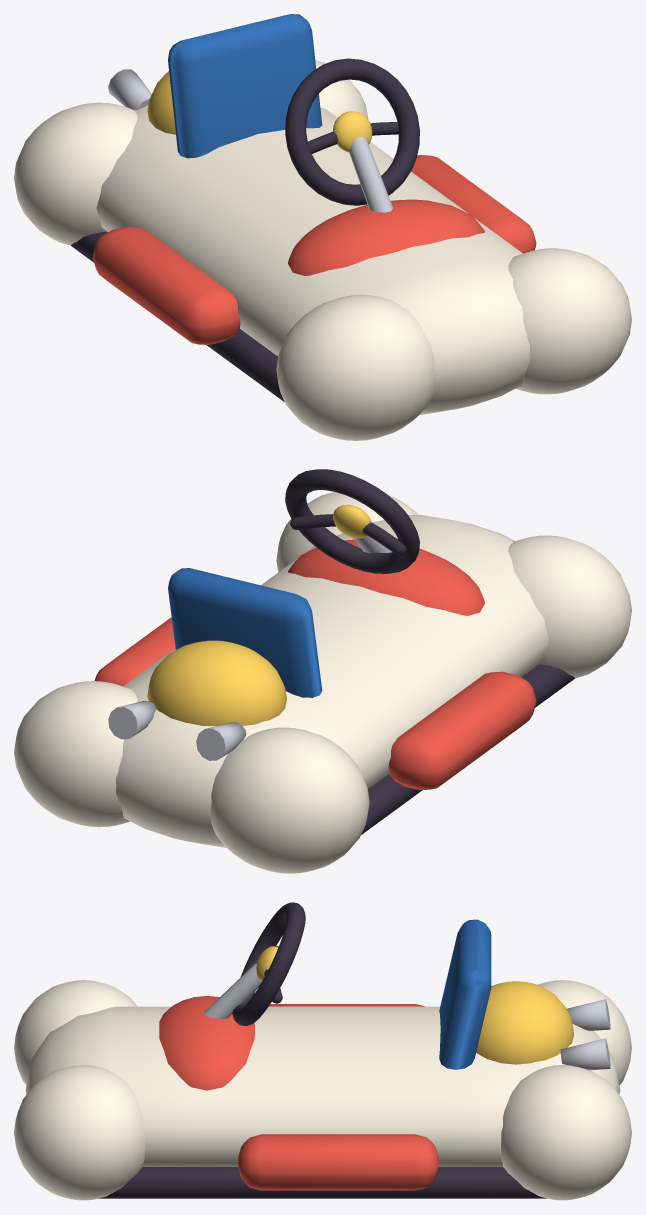
Rendered from kart_bone.glb.
3 renders of one model, top to bottom at view 1: azimuth 30°, elevation 25°; view 2: azimuth 150°, elevation 25°; view 3: azimuth 270°, elevation 25°, orthographic. The views are drawn at different scales.
Visible parts, largest first — view 1: kart_bone; view 2: kart_bone; view 3: kart_bone.
Part boxes in pixels (x1,y1,x2,y2): kart_bone: [14, 14, 631, 440]; kart_bone: [14, 469, 631, 873]; kart_bone: [14, 902, 631, 1200].
Bounding box in the file's own units: 0.96 × 0.6934 × 1.6.
